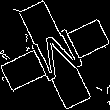M_SE: (23, 22, 87, 88)
